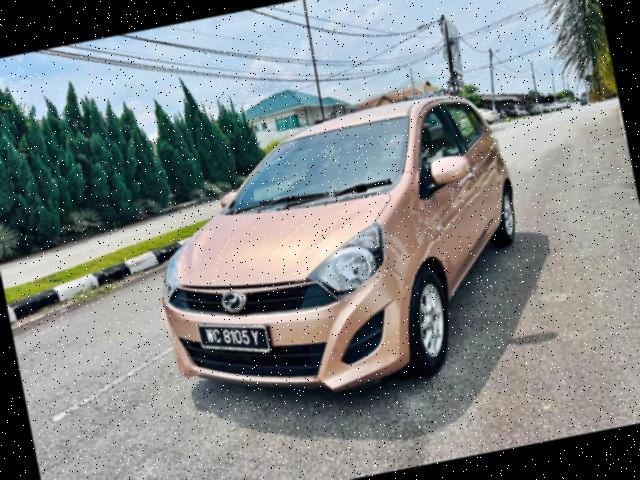License_Plate: (193, 312, 277, 360)
car: (124, 83, 551, 431)
